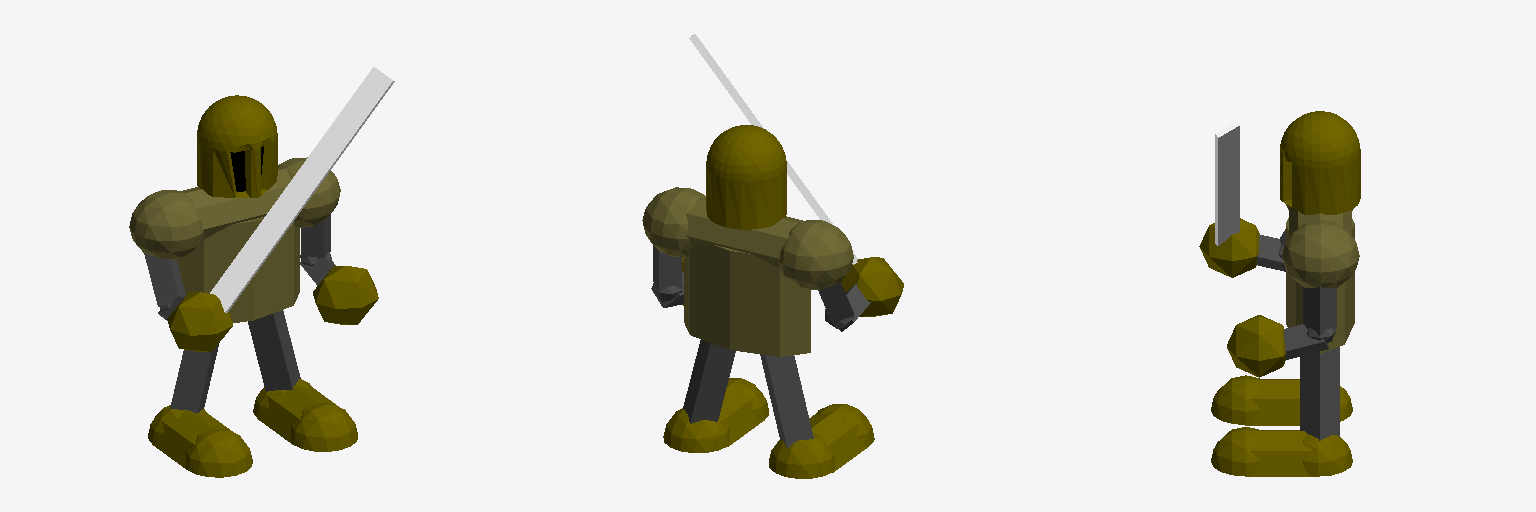
Rendered from knight.obj.
3 views of the same model, side by side, from view 1: azimuth 30°, elevation 25°; view 2: azimuth 150°, elevation 25°; view 3: azimuth 270°, elevation 25° (orthographic).
Parts seen in each view (by area): view 1: Sword, Helmet, Torso, Right_shoulder, Left_hand, Right_hand, Left_leg, Collar, Left_foot_p3, Right_foot_p3, Right_leg, Right_foot_p2 (+6 smaller); view 2: Torso, Helmet, Right_shoulder, Collar, Right_leg, Left_leg, Left_shoulder, Right_hand, Right_foot_p1, Left_foot_p1, Right_foot_p2, Sword (+5 smaller); view 3: Helmet, Left_shoulder, Left_leg, Sword, Left_hand, Left_foot_p2, Right_hand, Torso, Right_foot_p2, Right_foot_p3, Left_foot_p3, Left_foot_p1 (+4 smaller).
Part boxes in pixels (x1,y1,x2,y2): Sword: (210,67,394,312); Helmet: (197,95,277,197); Torso: (177,217,299,322); Right_shoulder: (129,190,204,259); Left_hand: (313,266,378,324); Right_hand: (167,292,232,351); Left_leg: (248,310,300,391); Collar: (179,168,291,242); Left_foot_p3: (291,403,357,451); Right_foot_p3: (186,429,252,477); Right_leg: (170,344,218,413); Right_foot_p2: (152,410,232,469); Torso: (684,244,810,356); Helmet: (706,125,786,229); Right_shoulder: (778,220,853,289); Collar: (685,198,802,268); Right_leg: (760,354,813,448); Left_leg: (683,339,735,423); Left_shoulder: (642,187,705,257); Right_hand: (841,257,903,316); Right_foot_p1: (769,433,834,478); Left_foot_p1: (663,408,729,452); Right_foot_p2: (809,410,868,472); Sword: (689,34,857,264); Helmet: (1280,111,1360,214); Left_shoulder: (1282,220,1359,287); Left_leg: (1300,347,1339,440); Sword: (1215,121,1239,246); Left_hand: (1227,315,1285,377); Left_foot_p2: (1245,430,1315,476); Right_hand: (1199,218,1259,277); Torso: (1286,218,1354,353); Right_foot_p2: (1245,379,1299,425); Right_foot_p3: (1211,375,1260,424); Left_foot_p3: (1211,427,1260,475); Left_foot_p1: (1303,434,1352,476).
Bounding box in the file's own units: 1.88 × 2.97 × 1.2.